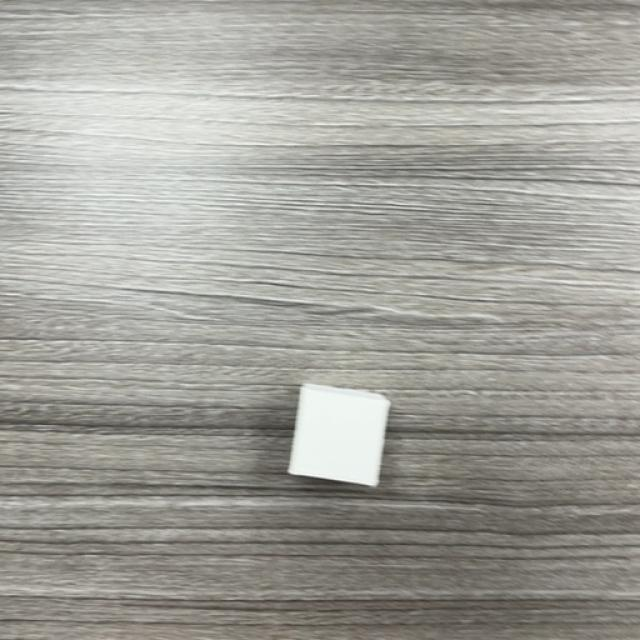Blanco: (286, 384, 390, 489)
